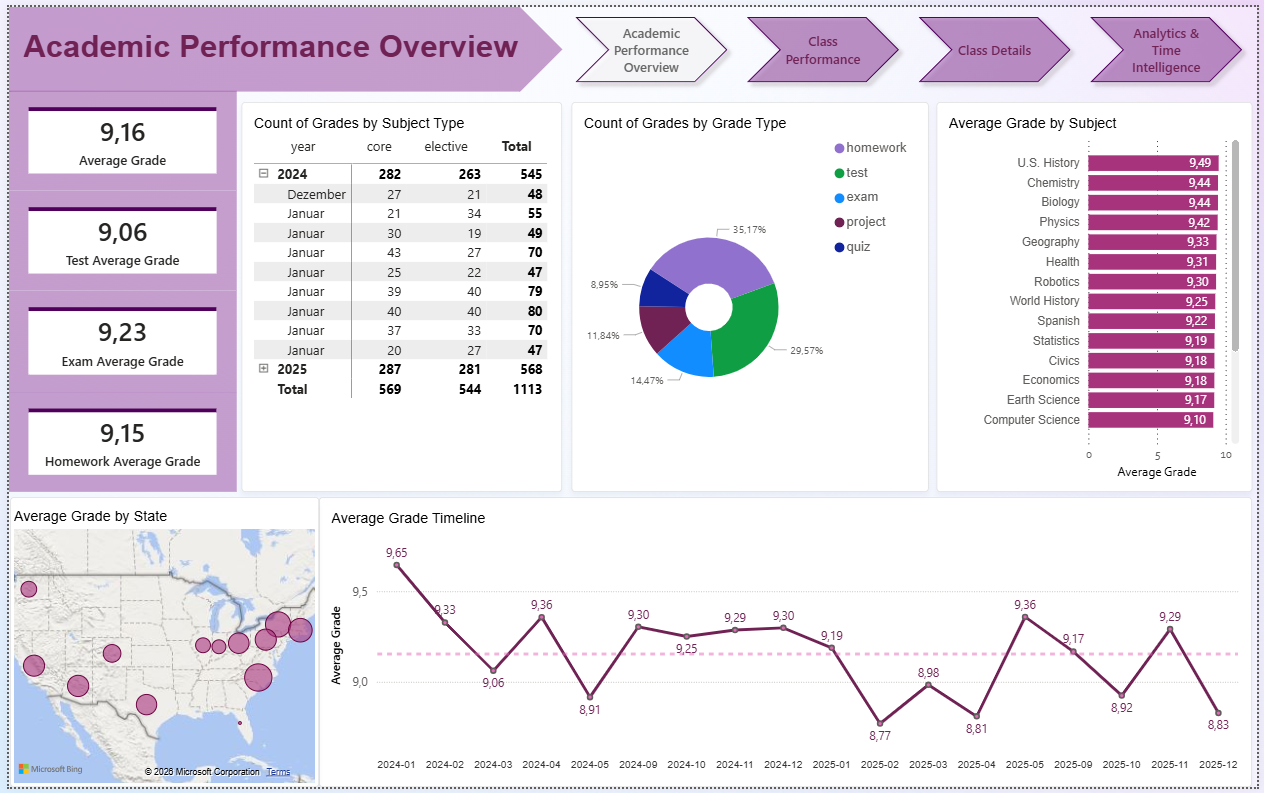

The dashboard page shown, as its layout file describes it:
{"tool":"powerbi","page":{"name":"Academic Performance Overview","canvas":[1280,800],"ordinal":0},"visuals":[{"type":"shape","box":[0,0,567.9,87],"z":0},{"type":"cardVisual","title":"Average Grade","fields":{"Data":["Avg(grades.grade_value)"]},"box":[0,86.2,233.8,102.5],"z":1000},{"type":"barChart","title":"Average Grade by Subject","fields":{"Category":["subjects.subject_name"],"Y":["Avg(grades.grade_value)"]},"box":[951.2,97.5,323.8,400],"z":2000},{"type":"lineChart","title":"Average Grade Timeline","fields":{"Category":["Calendar.year-month Hierarchy.year-month","Calendar.year-month Hierarchy.year"],"Y":["Avg(grades.grade_value)"]},"box":[317.9,502.7,956.5,297.6],"z":3000},{"type":"textbox","box":[11.2,1.2,556.2,86.2],"z":4000},{"type":"donutChart","title":"Count of Grades by Grade Type","fields":{"Category":["grades.grade_type"],"Y":["CountNonNull(grades.grade_value)"]},"box":[577.5,97.5,366.2,400],"z":5000},{"type":"pivotTable","title":"Count of Grades by Subject Type","fields":{"Rows":["Calendar.year","Calendar.month"],"Columns":["subjects.subject_type"],"Values":["CountNonNull(grades.grade_value)"]},"box":[238.8,97.5,328.8,400],"z":6000},{"type":"map","title":"Average Grade by State","fields":{"Category":["students.state"],"Size":["Avg(grades.grade_value)"]},"box":[1.4,502.7,316.6,297.6],"z":7000},{"type":"cardVisual","title":"Average Grade","fields":{"Data":["_Measures.Test Average Grade"]},"box":[0,188.8,233.8,102.5],"z":8000},{"type":"cardVisual","title":"Average Grade","fields":{"Data":["_Measures.Exam Average Grade"]},"box":[0,291.2,233.8,103.8],"z":9000},{"type":"cardVisual","title":"Average Grade","fields":{"Data":["_Measures.Homework Average Grade"]},"box":[0,395,233.8,102.5],"z":10000},{"type":"pageNavigator","box":[572,1.4,702.4,85.6],"z":11000}]}

Visuals, with their boxes in screenshot pixels (x1, y1, x2, y2), scaled from the page's 1280x800 canvas onto the 1264x793 screenshot:
shape: <bbox>0, 0, 561, 86</bbox>
"Average Grade" cardVisual: <bbox>0, 85, 231, 187</bbox>
"Average Grade by Subject" barChart: <bbox>939, 97, 1259, 493</bbox>
"Average Grade Timeline" lineChart: <bbox>314, 498, 1258, 792</bbox>
textbox: <bbox>11, 1, 560, 87</bbox>
"Count of Grades by Grade Type" donutChart: <bbox>570, 97, 932, 493</bbox>
"Count of Grades by Subject Type" pivotTable: <bbox>236, 97, 561, 493</bbox>
"Average Grade by State" map: <bbox>1, 498, 314, 792</bbox>
"Average Grade" cardVisual: <bbox>0, 187, 231, 289</bbox>
"Average Grade" cardVisual: <bbox>0, 289, 231, 392</bbox>
"Average Grade" cardVisual: <bbox>0, 392, 231, 493</bbox>
pageNavigator: <bbox>565, 1, 1258, 86</bbox>
